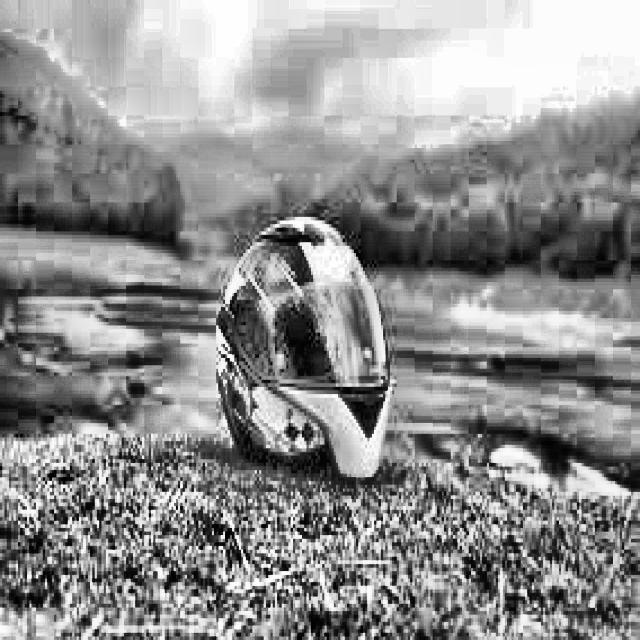Helmet: (208, 202, 398, 492)
